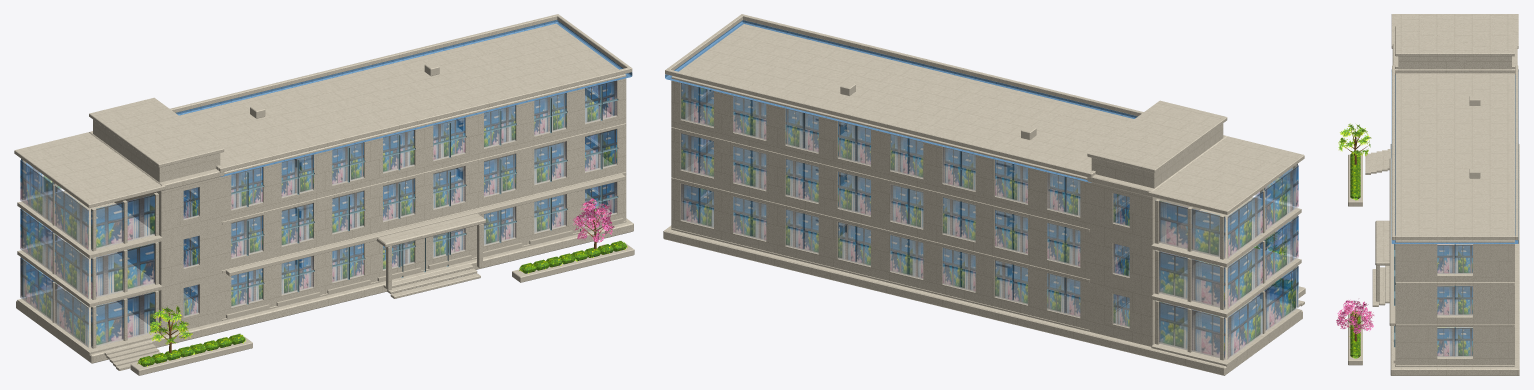
File: B09_large_hall_v2.glb
3 views of the same model, side by side, from view 1: azimuth 30°, elevation 25°; view 2: azimuth 150°, elevation 25°; view 3: azimuth 270°, elevation 25° (orthographic). The views are drawn at different scales.
Parts seen in each view (by area): view 1: GAME_V2_Pixel_limestone, GAME_V2_Glass_reflection, GAME_蓝灰窗框, GAME_roof, GAME_V2_Planter_stone, GAME_V2_Dense_hedge, GAME_V2_Blossom_cutout, GAME_V2_Leaf_cutout; view 2: GAME_V2_Pixel_limestone, GAME_V2_Glass_reflection, GAME_蓝灰窗框, GAME_roof, GAME_V2_Planter_stone; view 3: GAME_V2_Pixel_limestone, GAME_V2_Glass_reflection, GAME_V2_Planter_stone, GAME_roof, GAME_V2_Dense_hedge, GAME_V2_Blossom_cutout, GAME_V2_Leaf_cutout, GAME_蓝灰窗框, GAME_V2_Bark.
Boxes of the visible parts, <box> form: GAME_V2_Pixel_limestone: <box>14,14,633,370</box>; GAME_V2_Glass_reflection: <box>20,80,616,347</box>; GAME_蓝灰窗框: <box>186,86,618,304</box>; GAME_roof: <box>176,20,632,176</box>; GAME_V2_Planter_stone: <box>130,62,634,375</box>; GAME_V2_Dense_hedge: <box>138,241,626,366</box>; GAME_V2_Blossom_cutout: <box>222,198,614,338</box>; GAME_V2_Leaf_cutout: <box>137,241,627,366</box>; GAME_V2_Pixel_limestone: <box>663,14,1304,375</box>; GAME_V2_Glass_reflection: <box>681,83,1298,359</box>; GAME_蓝灰窗框: <box>682,87,1127,312</box>; GAME_roof: <box>665,20,1137,182</box>; GAME_V2_Planter_stone: <box>840,82,1305,298</box>; GAME_V2_Pixel_limestone: <box>1365,14,1519,375</box>; GAME_V2_Glass_reflection: <box>1437,244,1472,356</box>; GAME_V2_Planter_stone: <box>1348,96,1480,365</box>; GAME_roof: <box>1391,69,1518,243</box>; GAME_V2_Dense_hedge: <box>1350,153,1360,357</box>; GAME_V2_Blossom_cutout: <box>1336,299,1374,347</box>; GAME_V2_Leaf_cutout: <box>1338,123,1371,358</box>; GAME_蓝灰窗框: <box>1394,244,1455,356</box>; GAME_V2_Bark: <box>1341,129,1368,341</box>.
Size of the model in its own units: 26.95 by 8.52 by 9.33.
Materials: 9 (8 with a texture image).
